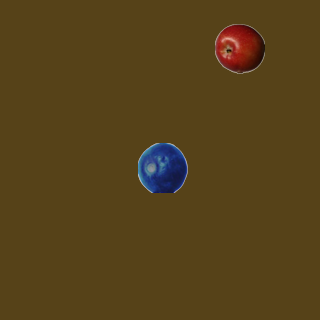Apple Braeburn: (214, 23, 264, 73)
Huckleberry: (137, 142, 187, 192)
